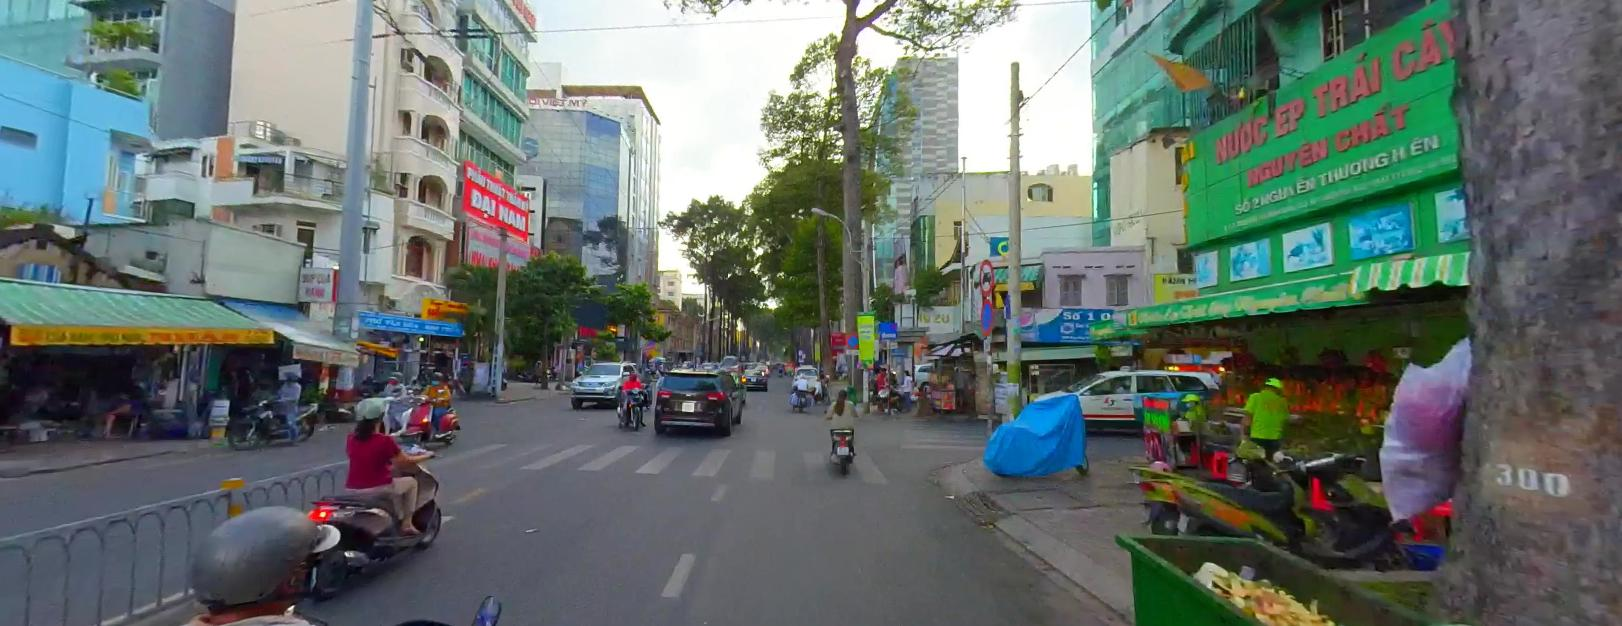Cam con lai: (978, 258, 993, 294)
Cam dung va do: (977, 299, 992, 334), (845, 332, 860, 347)
